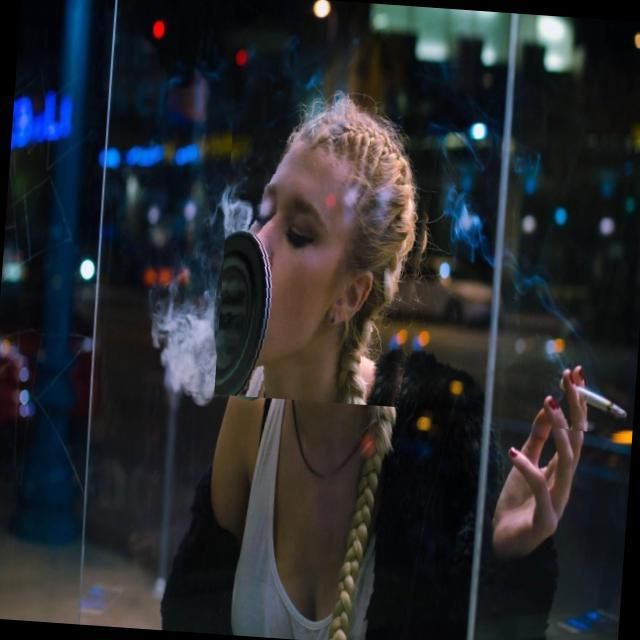cigarette: (552, 366, 637, 434)
